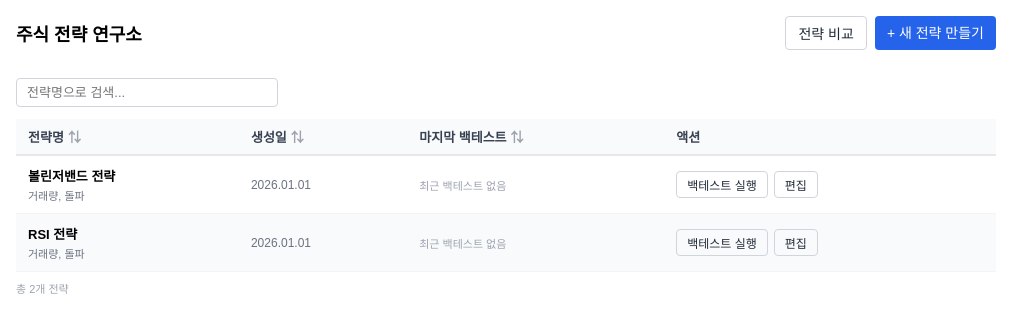
Test: StrategyListPage › 전략명 정렬: 헤더 클릭 시 정렬 방향 표시자 변경
The width and height of the screenshot is (1013, 311).
Expected: the column heading with test id "th-name" shows "⇅", [68, 130, 81, 145]
// 클릭 1회: 오름차순 (▲)
Click the column heading with test id "th-name".
click(127, 137)  # box [16, 119, 239, 155]
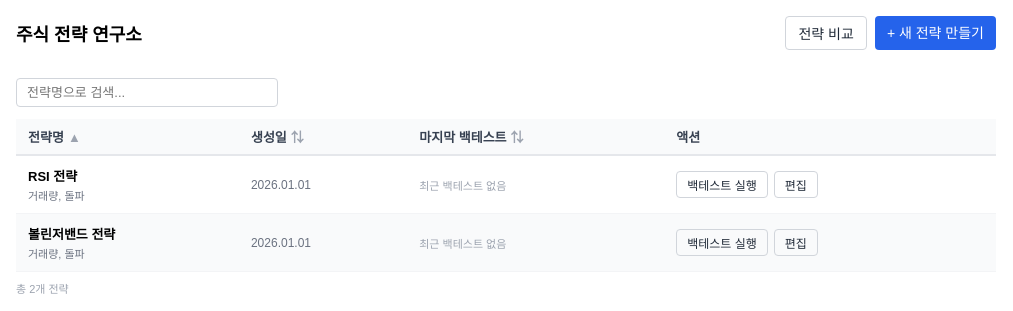
Expected: the column heading with test id "th-name" shows "▲", [68, 130, 81, 145]
// 클릭 2회: 내림차순 (▼)
Click the column heading with test id "th-name".
click(127, 137)  # box [16, 119, 239, 155]
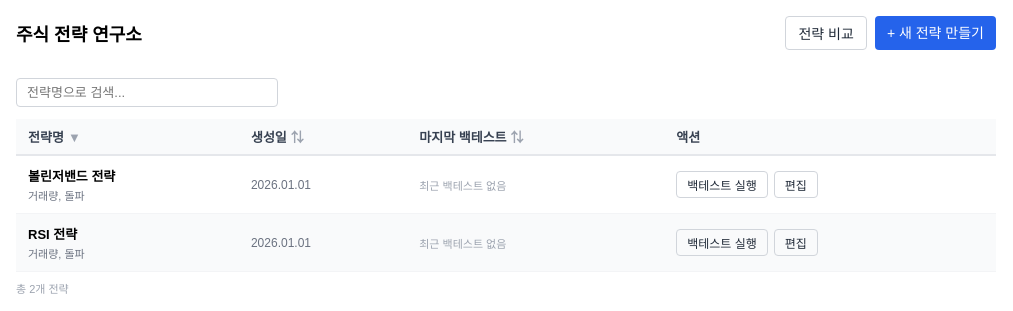
Expected: the column heading with test id "th-name" shows "▼", [68, 130, 81, 145]
